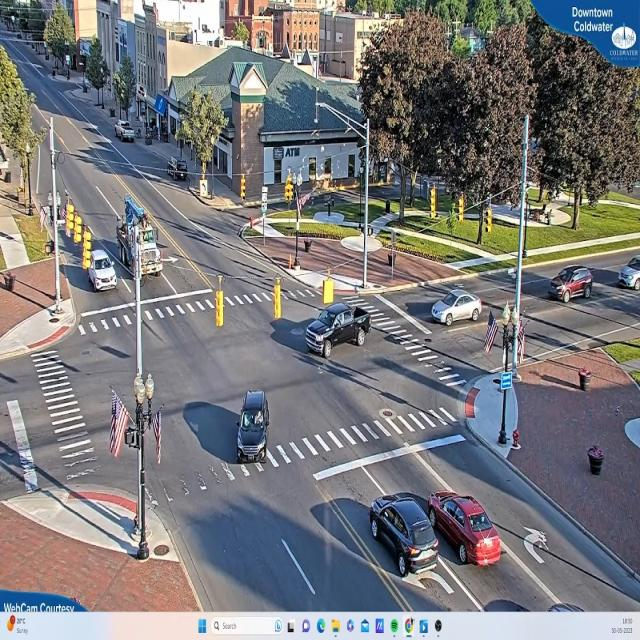car: (426, 490, 506, 569), (368, 494, 442, 579), (303, 300, 373, 359), (235, 388, 272, 465), (430, 292, 483, 327), (550, 268, 594, 302), (617, 261, 640, 289), (117, 122, 137, 145)
